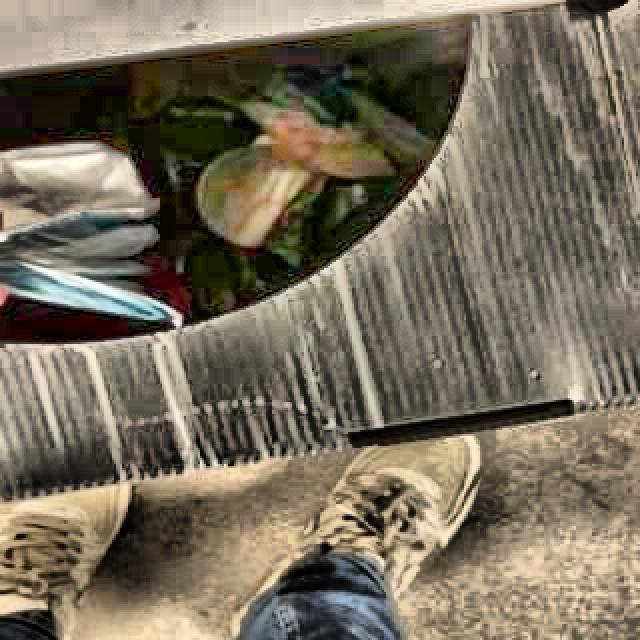metal: (0, 142, 181, 327)
